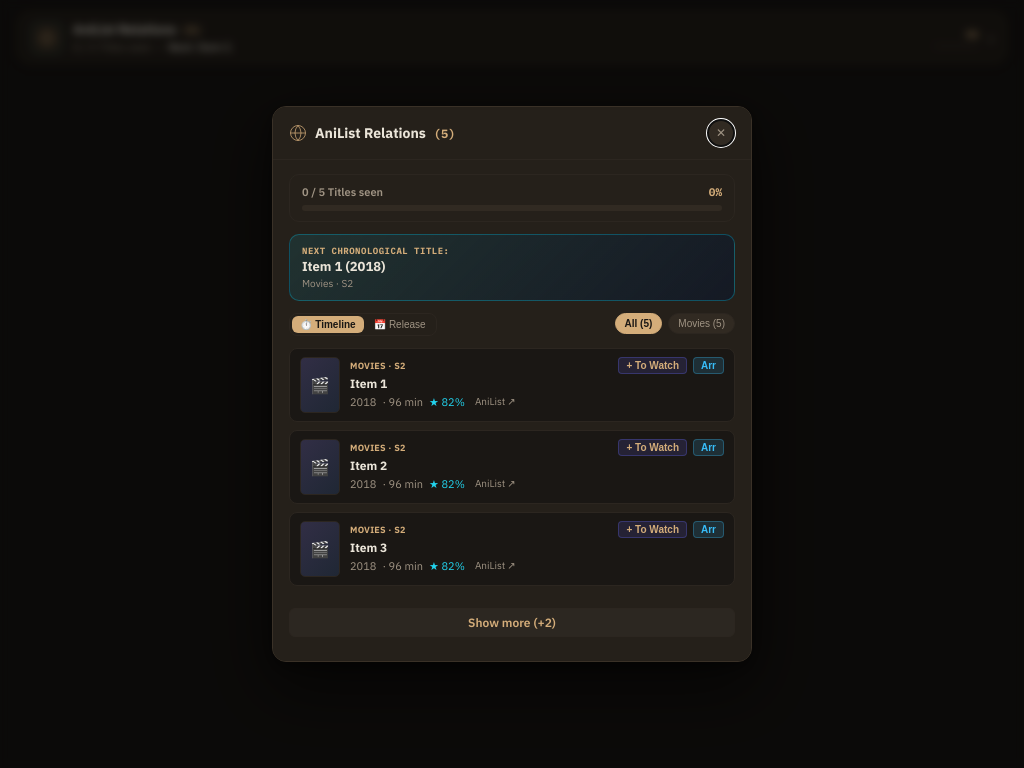
Test: FranchiseRelationsSection › collapses by default above 3 items and expands when clicking Show more in drawer
This screenshot has width=1024, height=768.
Click the button "Show more (+2)": (512, 622) [289, 608, 735, 637]
(page scrolled)
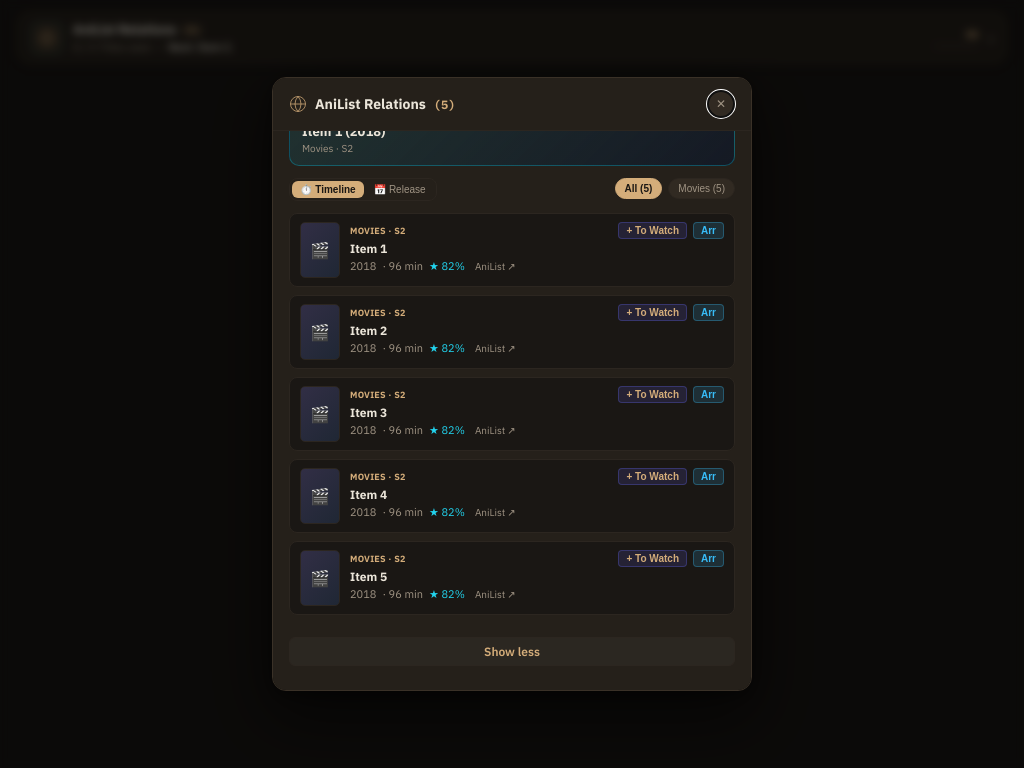
Now the button "Show less" is shown
# Collapse back
Click the button "Show less": (512, 651) [289, 637, 735, 666]
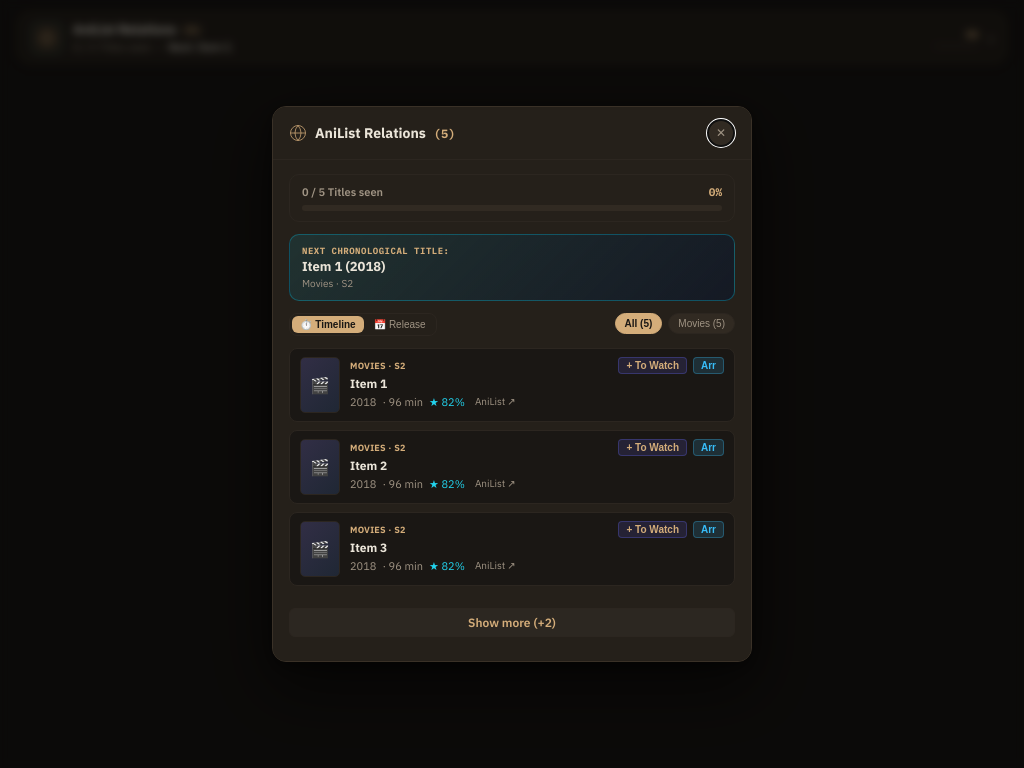
Now the button "Show more (+2)" is shown, box [289, 608, 735, 637]
